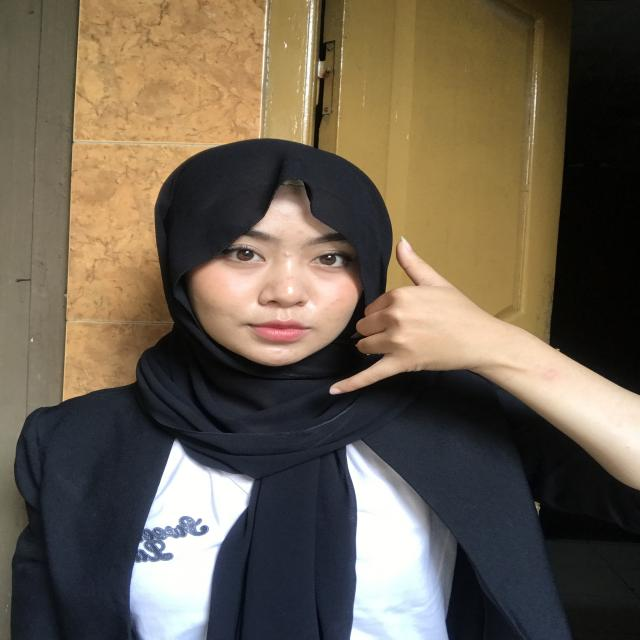telpon: (328, 238, 469, 419)
